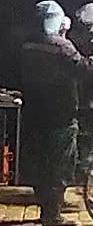vest: (17, 33, 81, 130)
